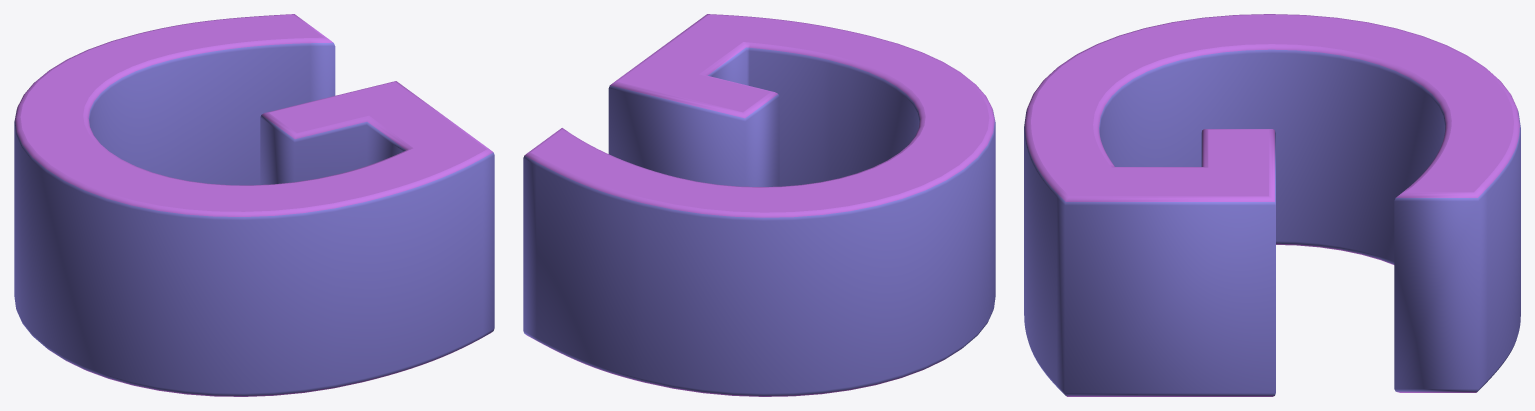
The model's file is letter_G.fbx.
3 views of the same model, side by side, from view 1: azimuth 30°, elevation 25°; view 2: azimuth 150°, elevation 25°; view 3: azimuth 270°, elevation 25° (orthographic). The views are drawn at different scales.
Visible parts, largest first — view 1: Letter_G; view 2: Letter_G; view 3: Letter_G.
Part boxes in pixels (x1,y1,x2,y2): Letter_G: [14, 14, 494, 396]; Letter_G: [523, 14, 995, 396]; Letter_G: [1024, 14, 1520, 396].
Bounding box in the file's own units: 64.3 × 32 × 72.
